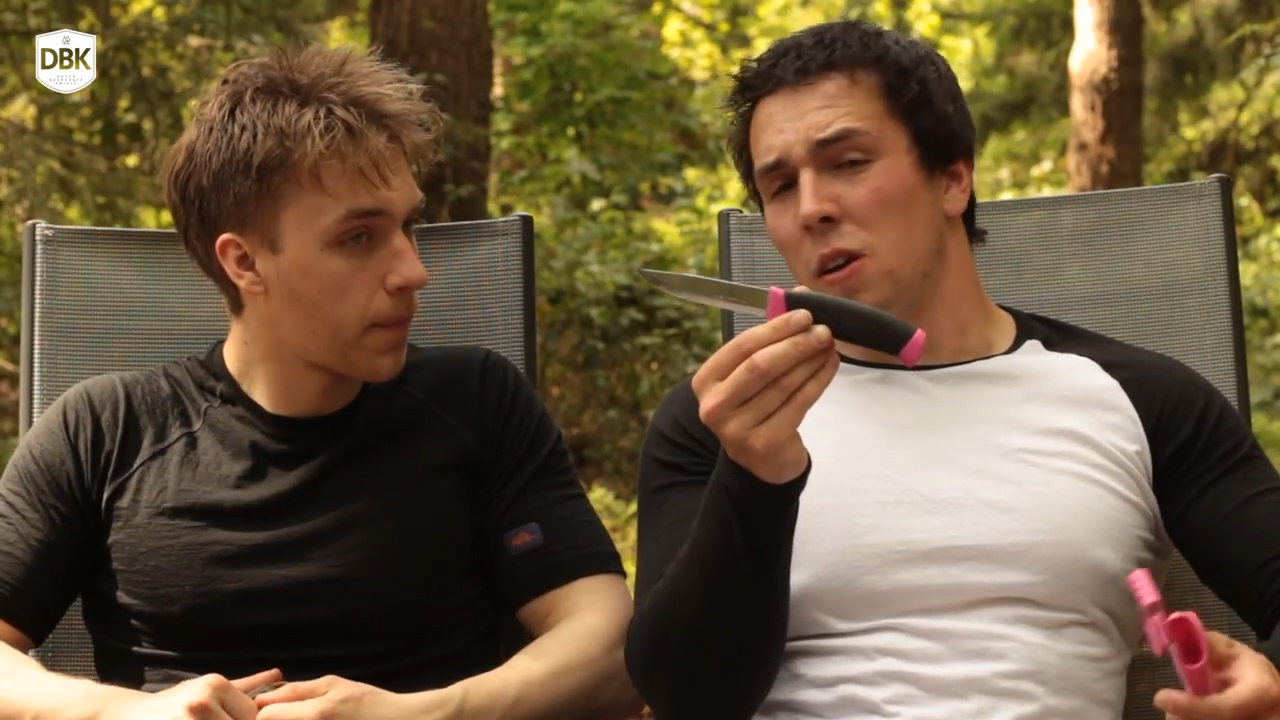knife: (620, 257, 938, 383)
